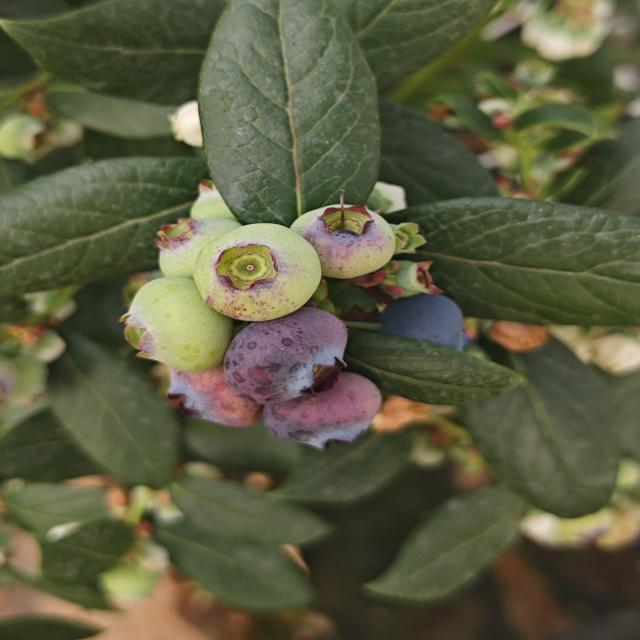ripe: (357, 288, 482, 374)
